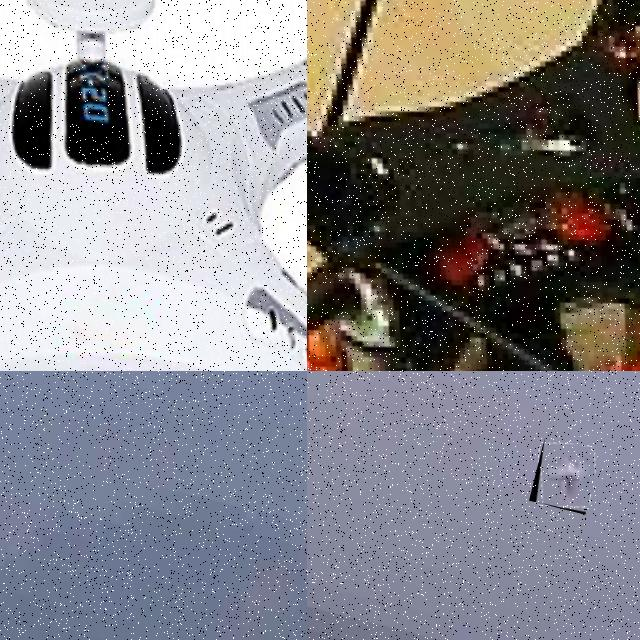drone: (307, 0, 640, 371), (0, 0, 307, 371), (528, 436, 601, 514)
